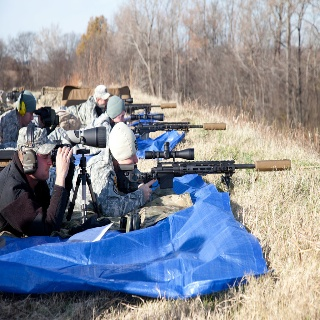rifle: (116, 141, 293, 191), (125, 112, 227, 137), (121, 97, 177, 112)
